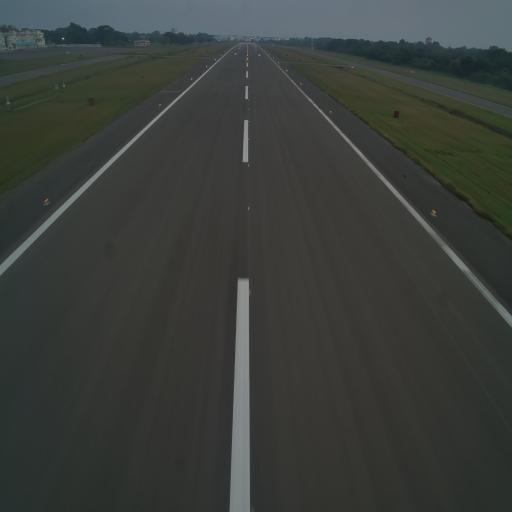on: (429, 204, 438, 220), (246, 283, 252, 302), (42, 196, 50, 208), (246, 158, 252, 171), (246, 204, 252, 216), (328, 109, 334, 116), (158, 101, 163, 109), (247, 135, 250, 142)
